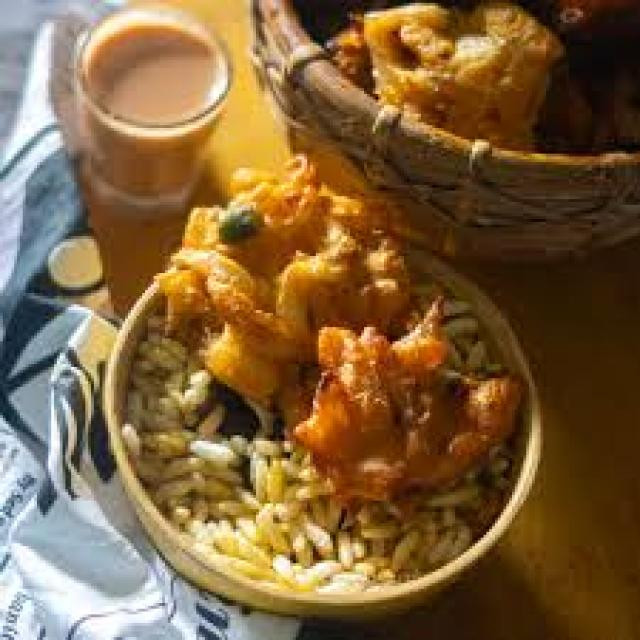BAJI: (158, 144, 412, 401), (297, 292, 530, 513), (353, 2, 574, 151)
